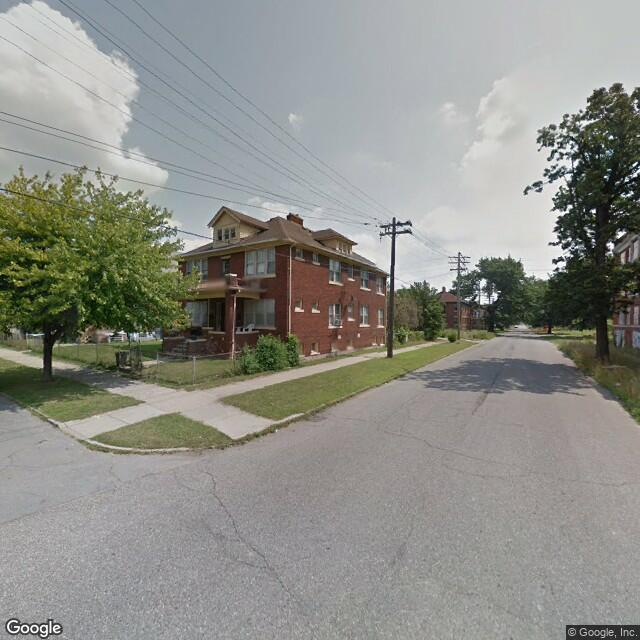litter: (268, 428, 284, 433)
